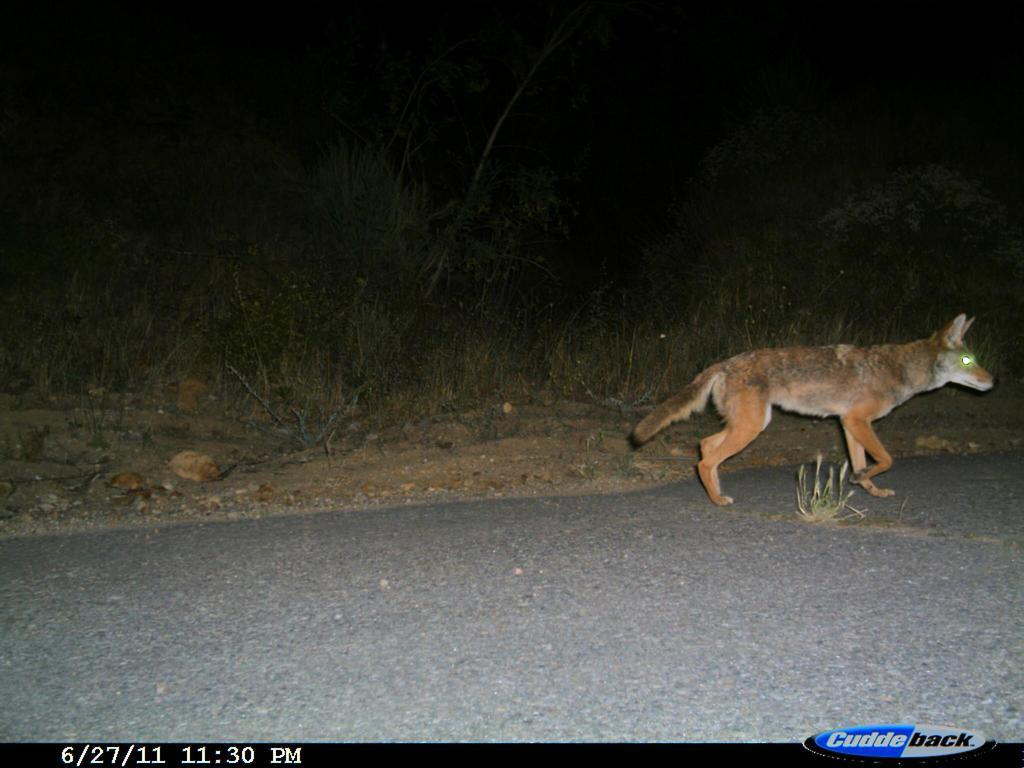coyote: (634, 303, 996, 516)
